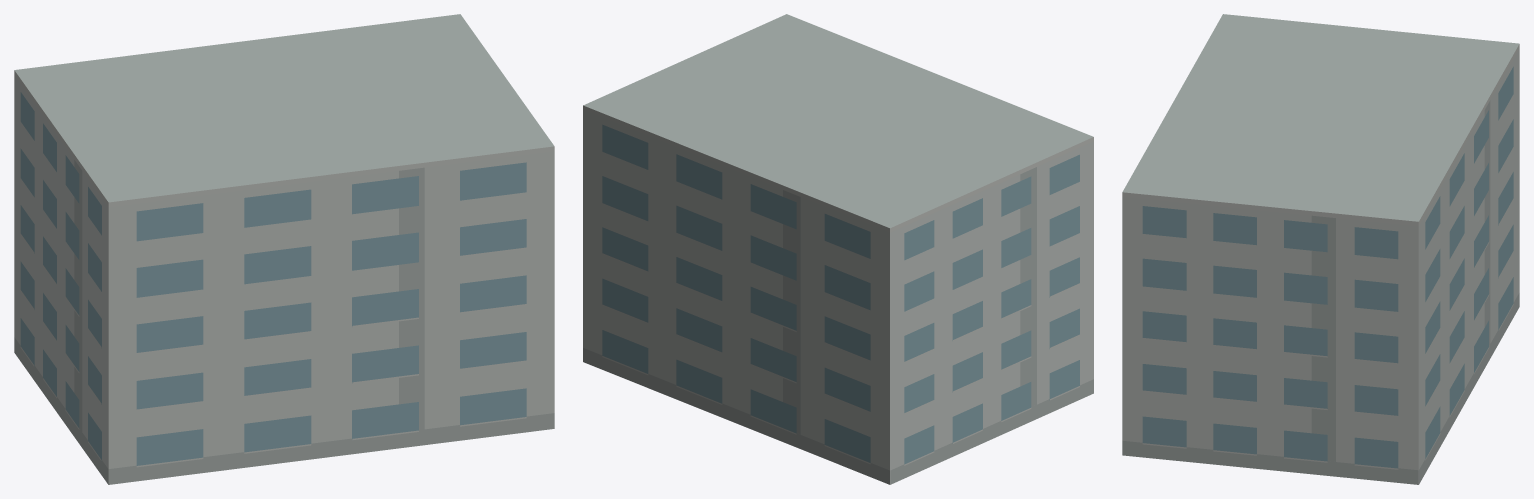
The model's file is survey-upis-33046220.glb.
3 views of the same model, side by side, from view 1: azimuth 30°, elevation 25°; view 2: azimuth 150°, elevation 25°; view 3: azimuth 270°, elevation 25° (orthographic). The views are drawn at different scales.
Parts seen in each view (by area): view 1: survey-upis-33046220.tmp; view 2: survey-upis-33046220.tmp; view 3: survey-upis-33046220.tmp.
Part boxes in pixels (x1=…): survey-upis-33046220.tmp: x1=14, y1=14, x2=554, y2=484; survey-upis-33046220.tmp: x1=583, y1=14, x2=1093, y2=484; survey-upis-33046220.tmp: x1=1122, y1=14, x2=1519, y2=484.
Bounding box in the file's own units: 23.72 × 14 × 19.17.
